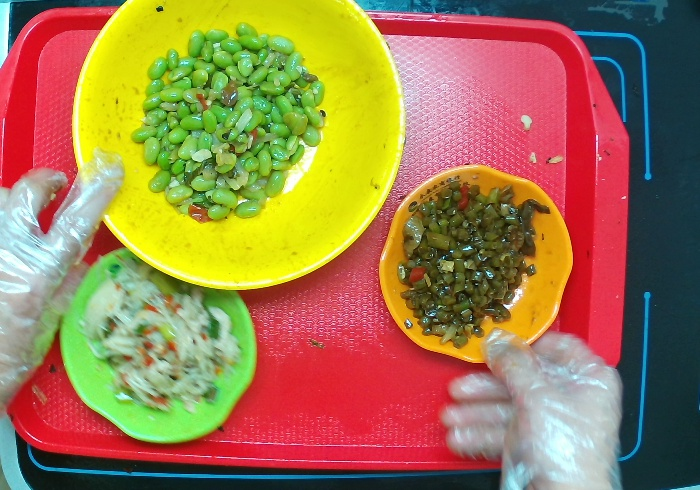YKMZ-Huang_Se_Tang_Wan: (70, 1, 407, 292)
YKMZ-Ju_Se_Ao_Bian_Wan: (377, 162, 575, 365)
YKMZ-Lv_Se_Ao_Bian_Wan: (58, 246, 259, 445)
